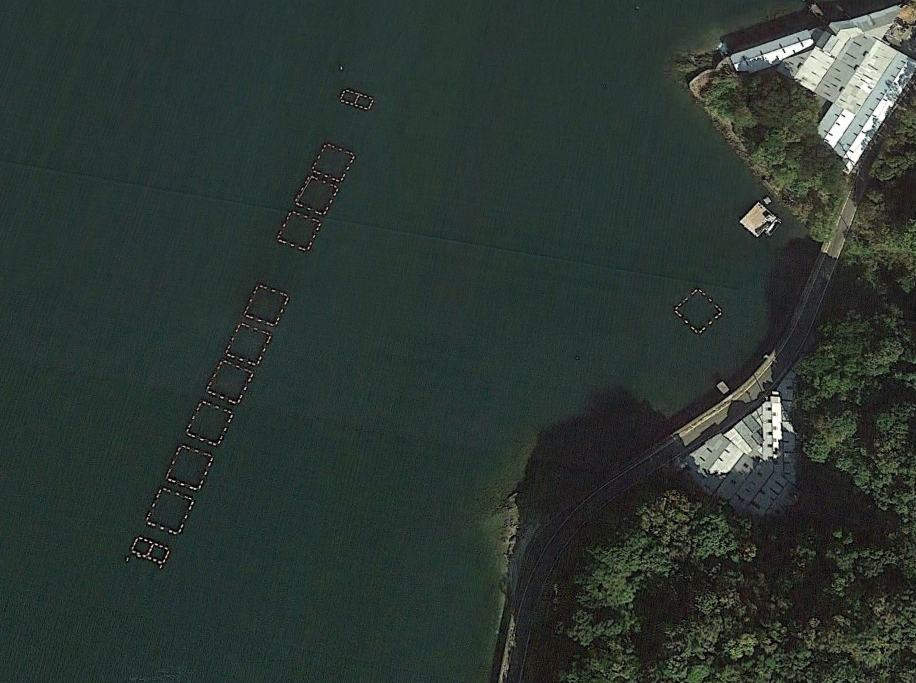house: (685, 386, 820, 524), (805, 21, 916, 185), (714, 20, 821, 71), (826, 3, 916, 43)
platform: (738, 194, 783, 244)
ship: (762, 216, 788, 236)
square: (666, 275, 731, 340), (136, 485, 209, 540), (163, 435, 216, 497), (273, 204, 331, 257), (197, 354, 257, 405), (309, 133, 366, 186), (178, 397, 236, 448), (240, 277, 295, 330), (220, 317, 276, 366), (293, 173, 343, 218)
